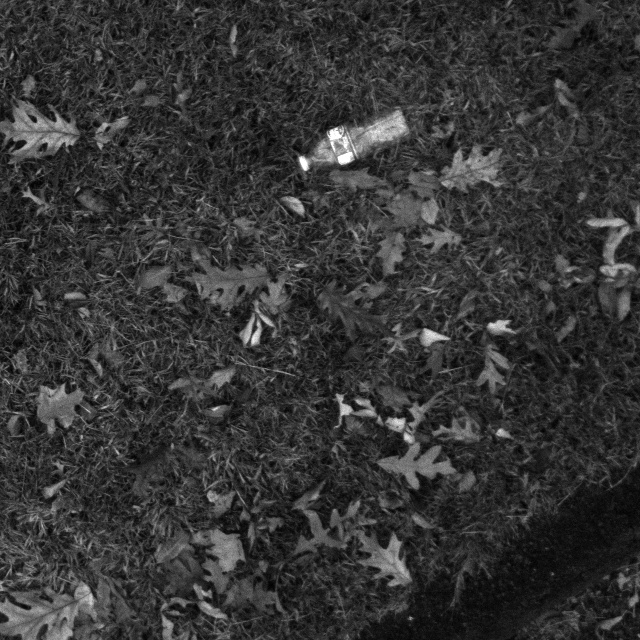bottle: (288, 102, 417, 183)
